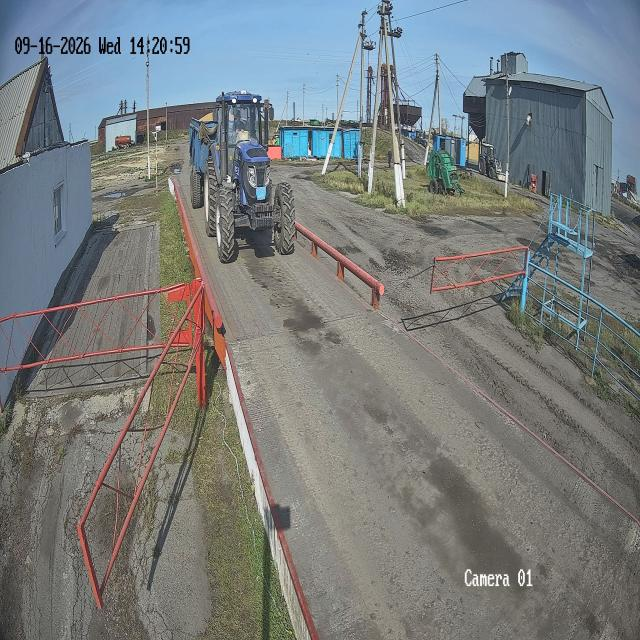license plate: (256, 186, 266, 200)
truck: (189, 91, 295, 263), (428, 150, 464, 193), (478, 142, 504, 180), (478, 142, 502, 179), (114, 135, 131, 148)
